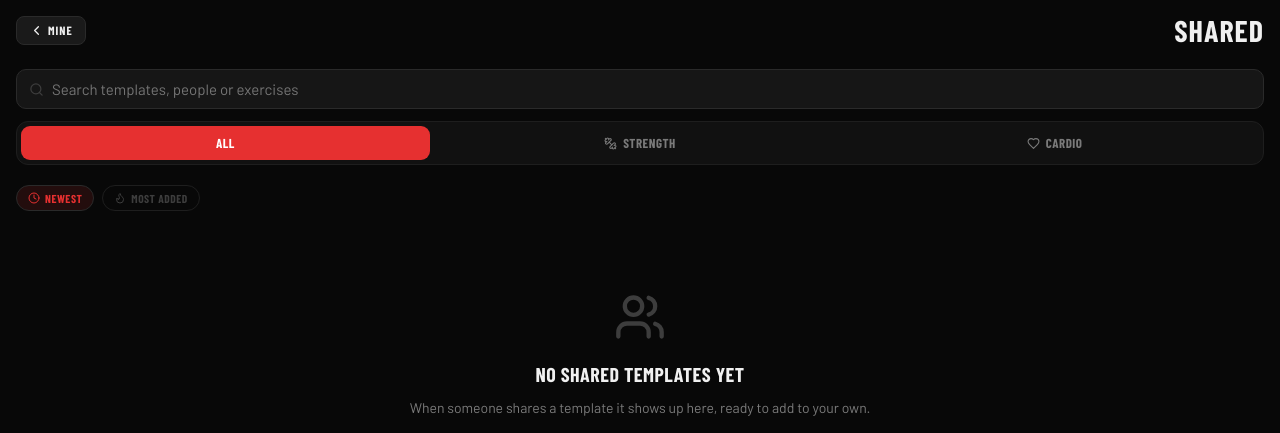
SharedTemplates library › says when a search matches nothing, which is a different problem
The image size is (1280, 433).
Type "zzz" into the field with placeholder "Search templates, people or exercises". click: (652, 89)
box: x1=52 y1=80 x2=1251 y2=98
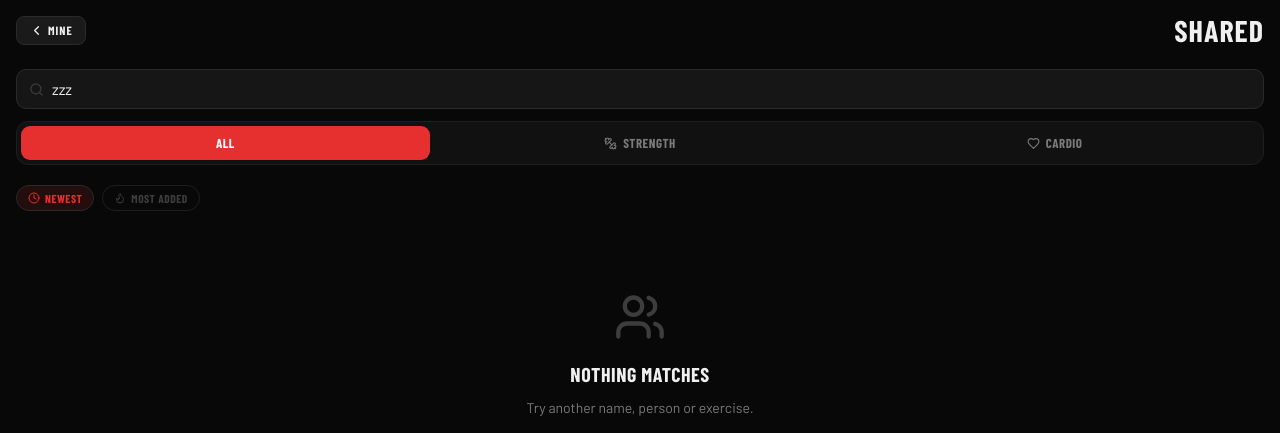
Expected: the heading "Nothing Matches" is shown, x1=570 y1=362 x2=710 y2=386
